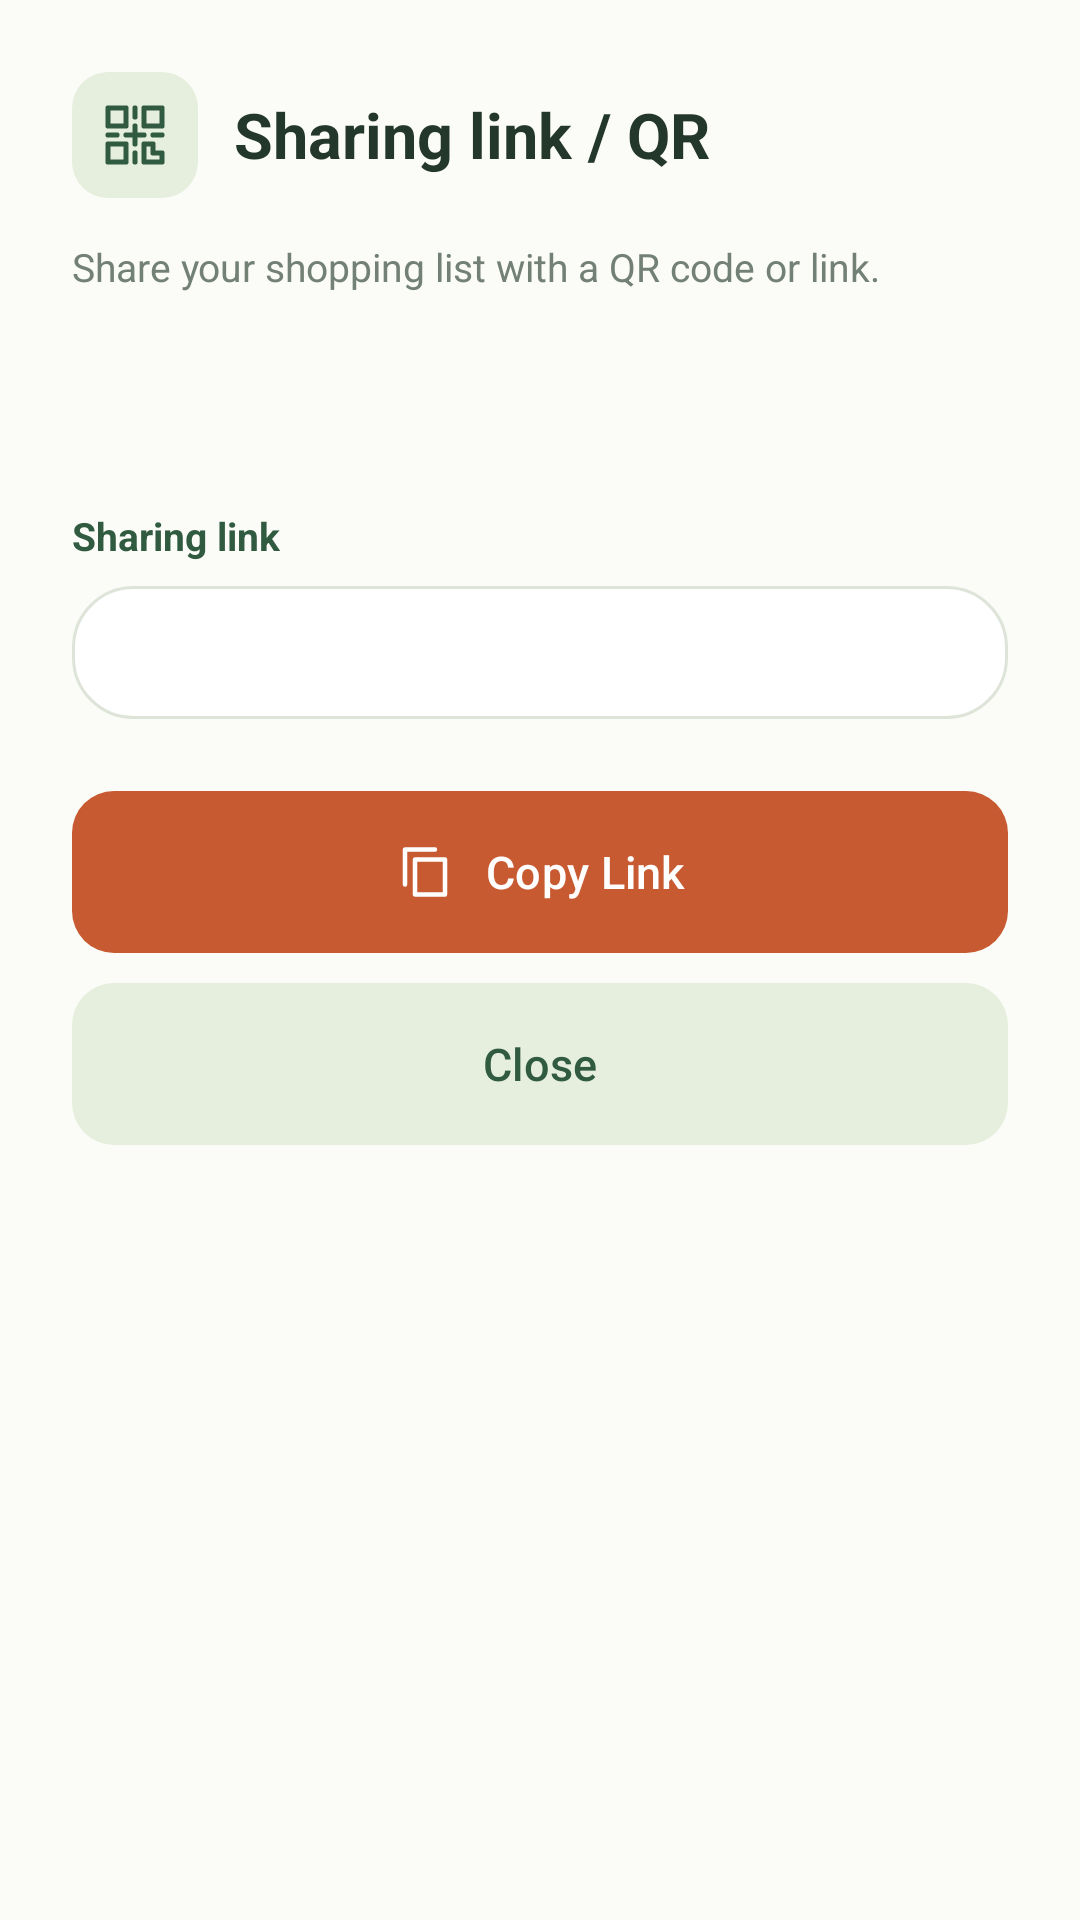

Named icons in this screenshot (1080*1920) and their centers, (x,y):
pantry share qr: (135,135)
